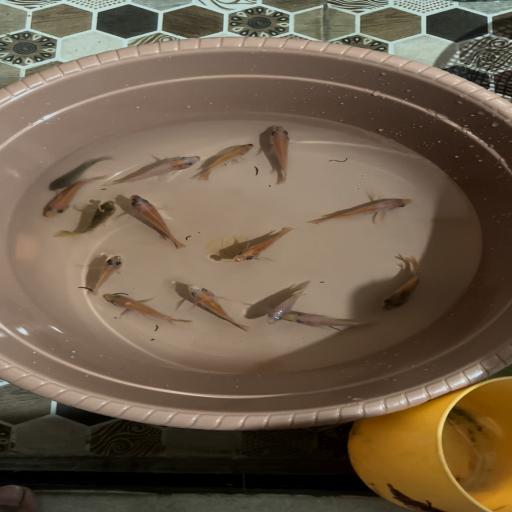nila: (302, 187, 416, 229), (173, 282, 260, 336), (93, 290, 201, 333), (120, 193, 196, 252), (110, 151, 206, 189), (372, 255, 431, 313), (217, 224, 301, 264), (36, 175, 106, 222), (192, 137, 257, 185), (250, 281, 314, 329), (43, 149, 112, 190), (55, 198, 121, 240), (260, 124, 303, 185), (286, 308, 385, 332), (80, 255, 134, 296)
